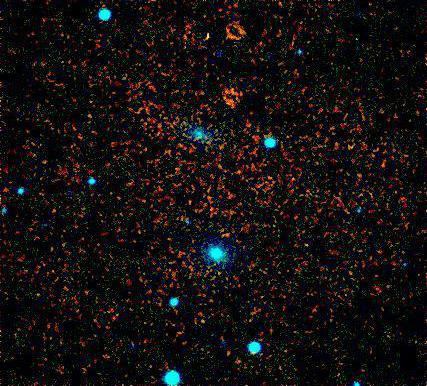star: (193, 306, 223, 336)
